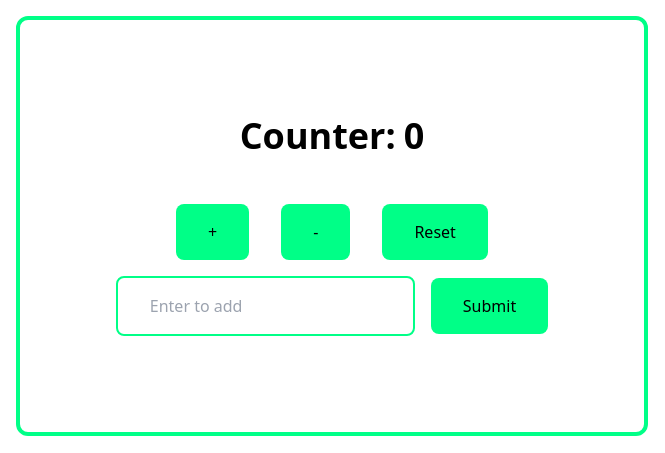
Counter Testing › test the decrement
Click the button "-" at (316, 232), box x1=281 y1=204 x2=350 y2=260
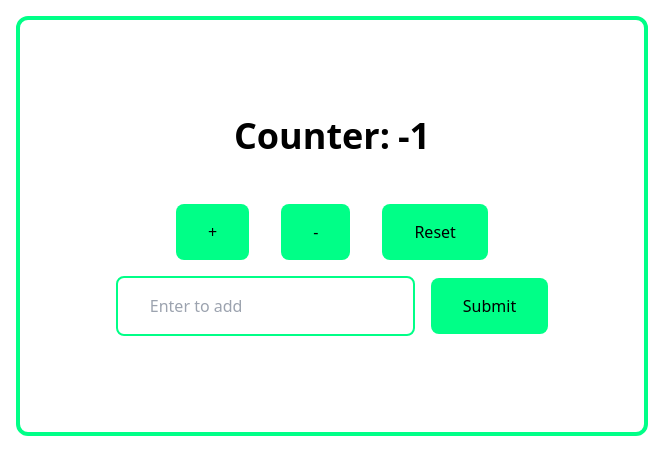
Now the heading with test id "counter" reads "-1", box x1=398 y1=111 x2=430 y2=160
